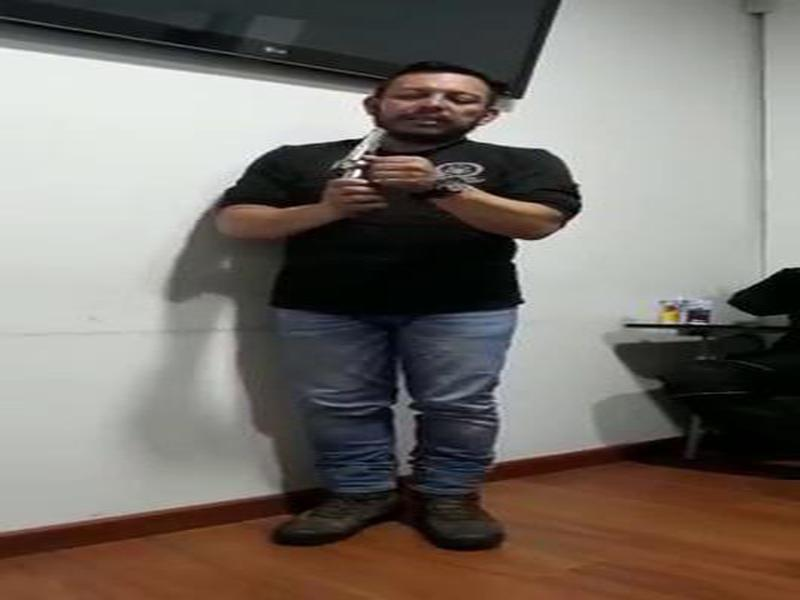Revolver: (320, 115, 402, 218)
